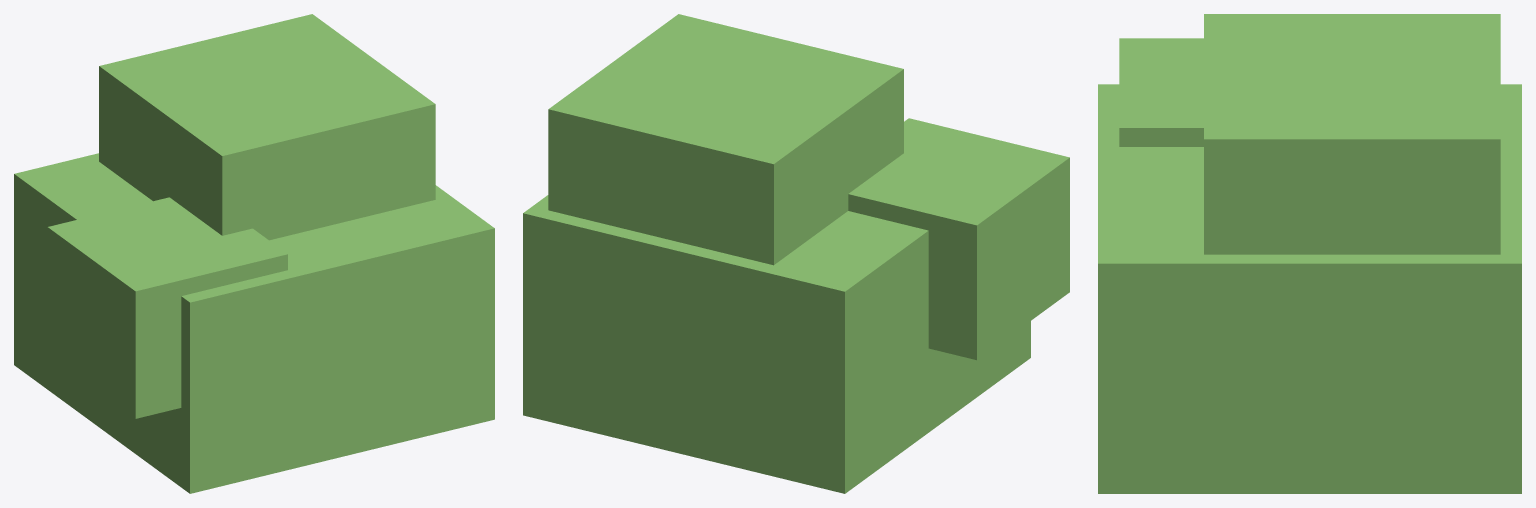
File: bush.glb
3 views of the same model, side by side, from view 1: azimuth 30°, elevation 25°; view 2: azimuth 150°, elevation 25°; view 3: azimuth 270°, elevation 25° (orthographic). The views are drawn at different scales.
Visible parts, largest first — view 1: Prop_Bush; view 2: Prop_Bush; view 3: Prop_Bush.
Boxes of the visible parts, <box> form: Prop_Bush: <box>14,14,494,493</box>; Prop_Bush: <box>523,14,1069,493</box>; Prop_Bush: <box>1098,14,1521,493</box>.
Bounding box in the file's own units: 1.15 × 0.9 × 1.
